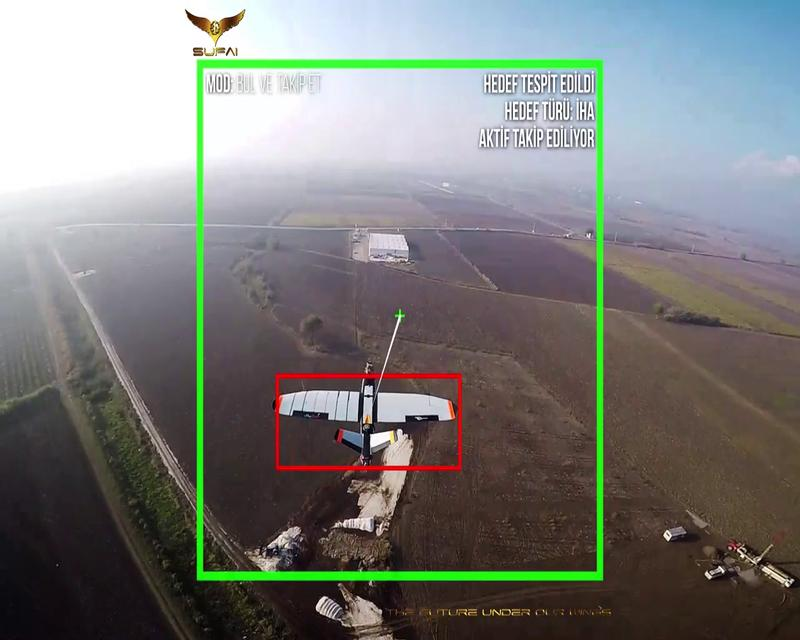UAV: (269, 361, 459, 464)
